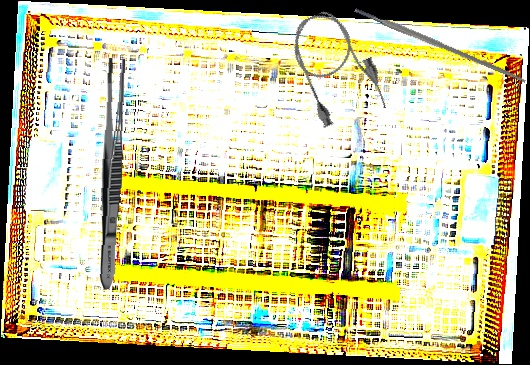Cannula: (280, 1, 393, 134)
Dressing Forceps: (95, 57, 128, 290)
Scalpel Handle: (353, 5, 528, 85)
